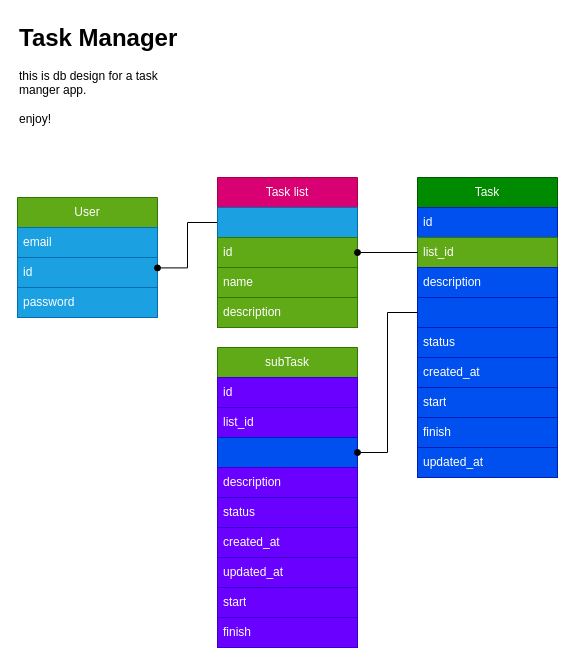
Some shapes in this 575 by 665 pixel diagram are drawn without their labels. Here are the shapes that lost their labels. From the top down, the centre of each, then its label:
At [287,222]: "user_id".
At [487,312]: "subtasks".
At [287,452]: "parent_id".
